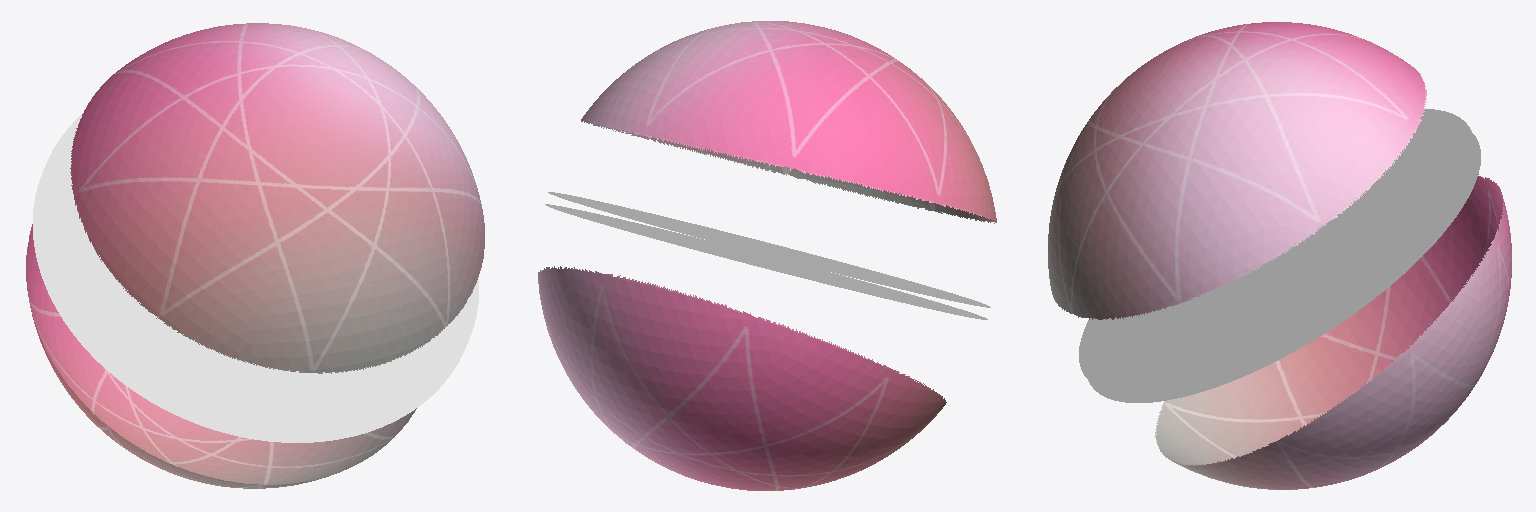
3 views of the same model, side by side, from view 1: azimuth 30°, elevation 25°; view 2: azimuth 150°, elevation 25°; view 3: azimuth 270°, elevation 25° (orthographic).
Visible parts, largest first — view 1: Object.2, Object.1; view 2: Object.1, Object.2; view 3: Object.2, Object.1.
Part boxes in pixels (x1,y1,x2,y2): Object.2: (36, 23, 484, 434); Object.1: (26, 170, 465, 488); Object.1: (538, 204, 987, 490); Object.2: (548, 21, 996, 307); Object.2: (1048, 22, 1474, 392); Object.1: (1088, 134, 1511, 489).
Bounding box in the file's own units: 23.97 × 24.54 × 24.3.
Materials: 2 (1 with a texture image).